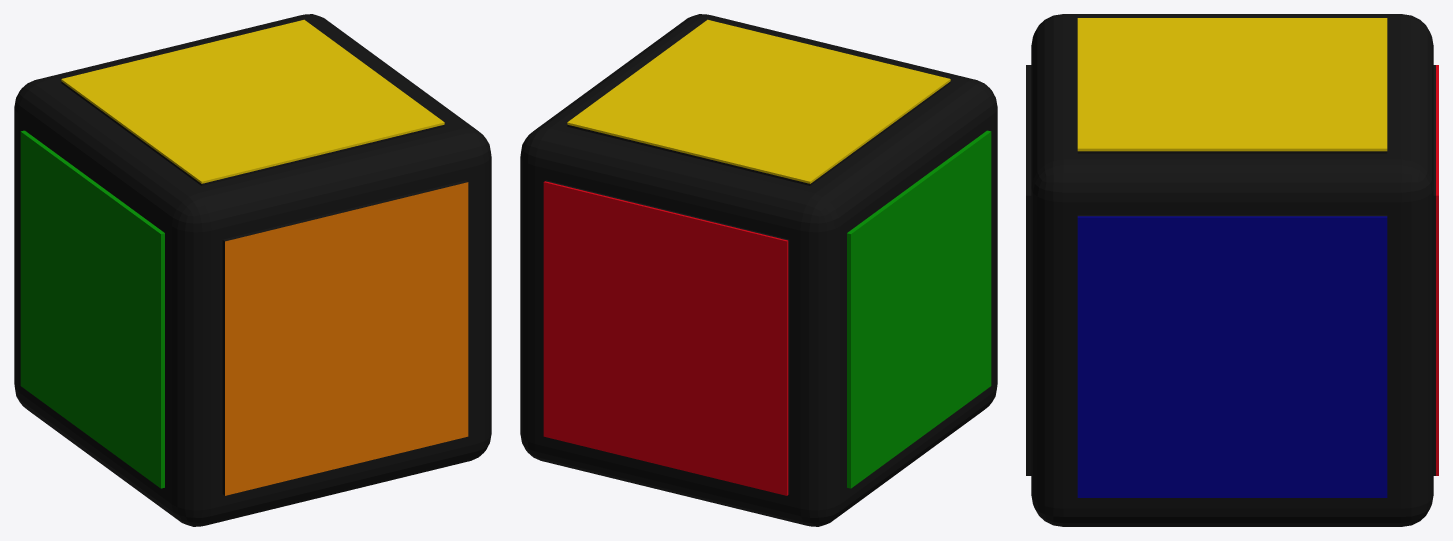
The picture shows the model from 3 angles, left to right: view 1: azimuth 30°, elevation 25°; view 2: azimuth 150°, elevation 25°; view 3: azimuth 270°, elevation 25°; orthographic projection. The views are drawn at different scales.
Parts seen in each view (by area): view 1: Cube; view 2: Cube; view 3: Cube.
Boxes of the visible parts, x1=… form: Cube: x1=14, y1=14, x2=491, y2=526; Cube: x1=520, y1=14, x2=997, y2=526; Cube: x1=1026, y1=14, x2=1438, y2=526.
Bounding box in the file's own units: 2.05 × 2.05 × 2.05.
